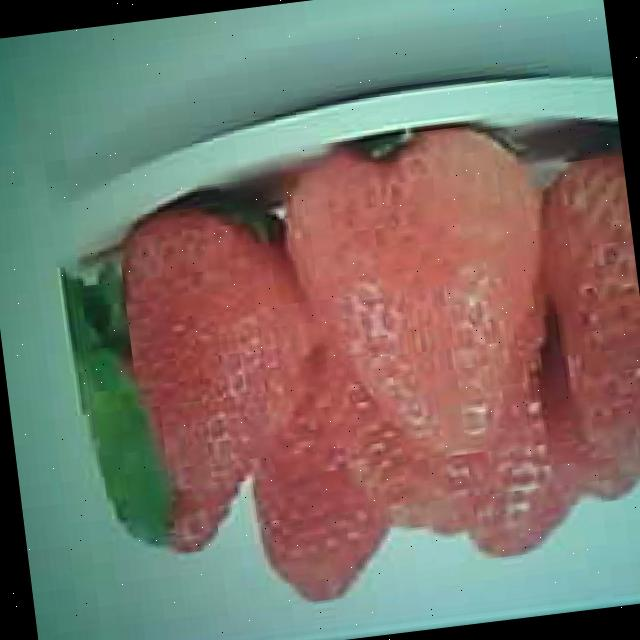strawberry: (273, 122, 565, 464), (101, 191, 322, 555)
